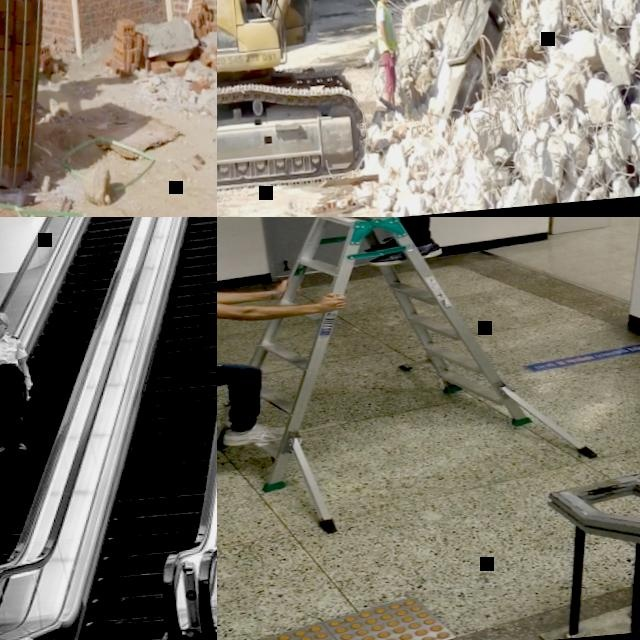NO-Hardhat: (0, 311, 8, 324)
NO-Mask: (0, 323, 3, 333), (380, 0, 387, 4)
NO-Safety Vest: (0, 334, 17, 367)
Person: (217, 223, 359, 487), (217, 217, 450, 275), (0, 309, 38, 457), (368, 0, 402, 110)
Safety Vest: (373, 5, 396, 52)
machinery: (217, 0, 640, 204)
